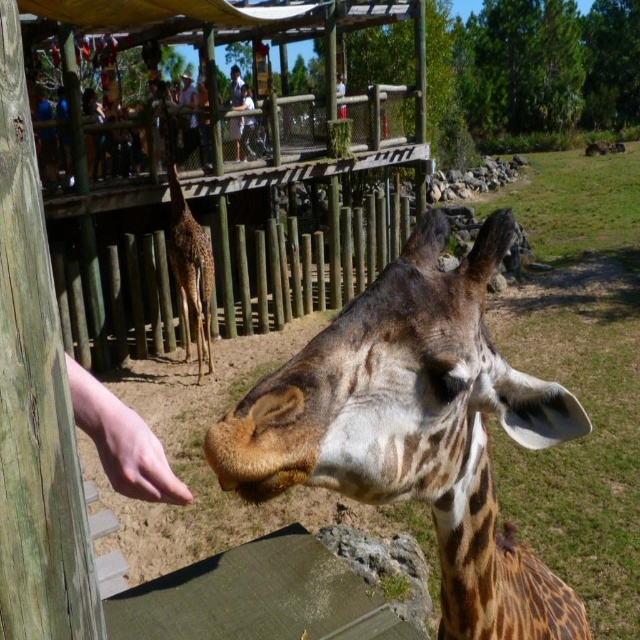Giraffe: (200, 205, 592, 639)
